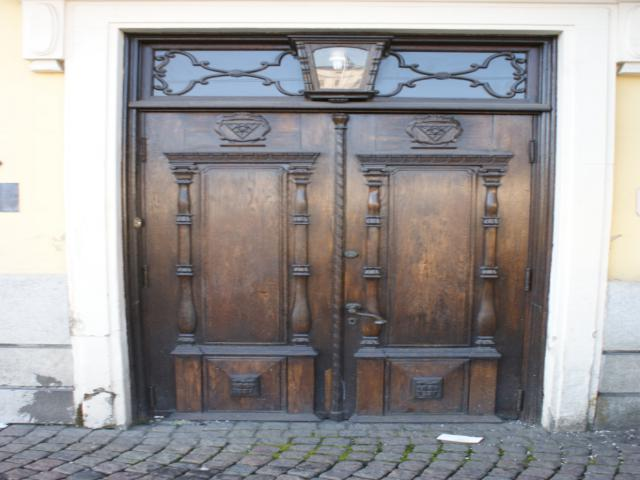Door-handle: (347, 302, 388, 324)
